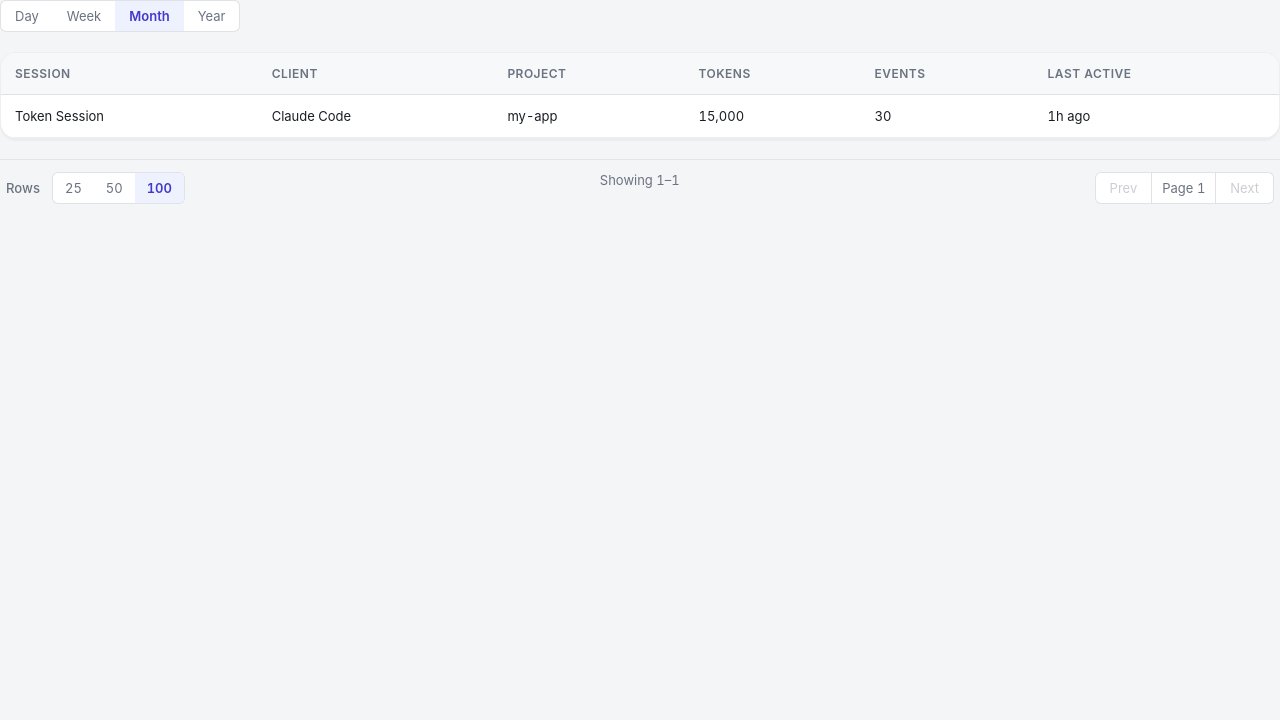
Test: SessionsPage › displays token breakdown in detail drawer
The image size is (1280, 720).
Click the text "Token Session" at (129, 116), box [1, 94, 258, 138]
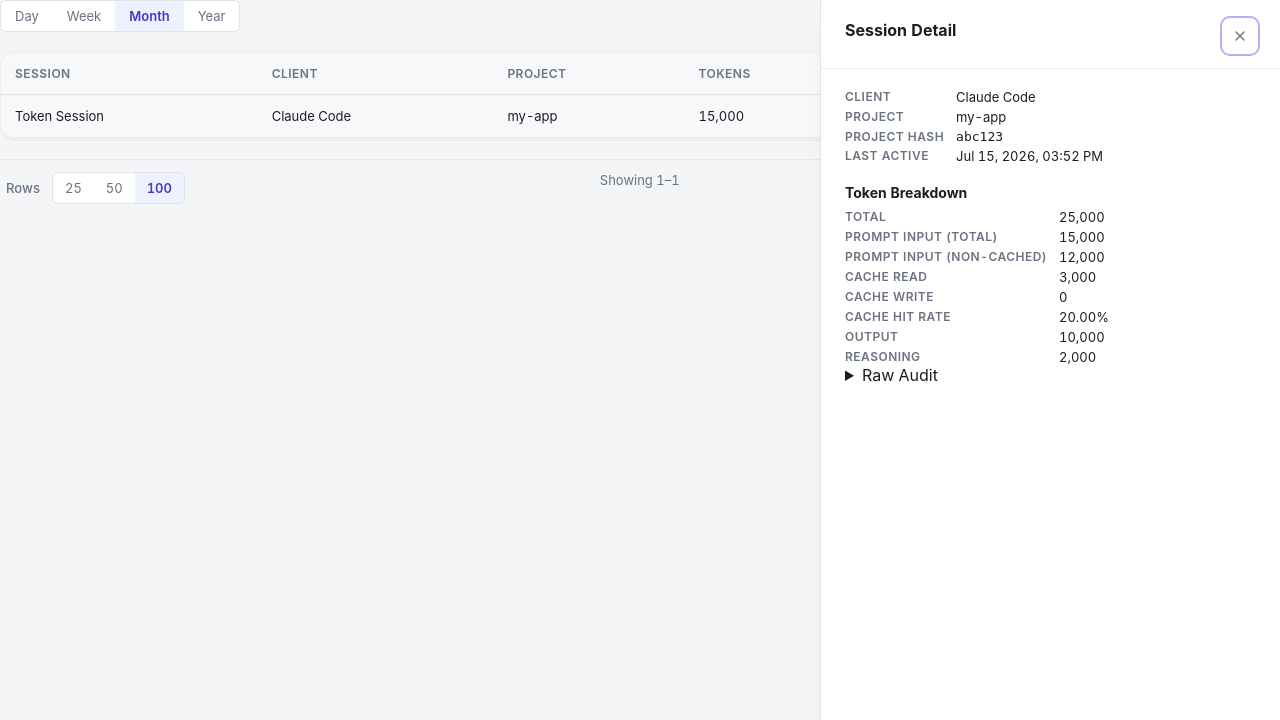
Now the heading "Token Breakdown" is shown, box [845, 184, 967, 201]
